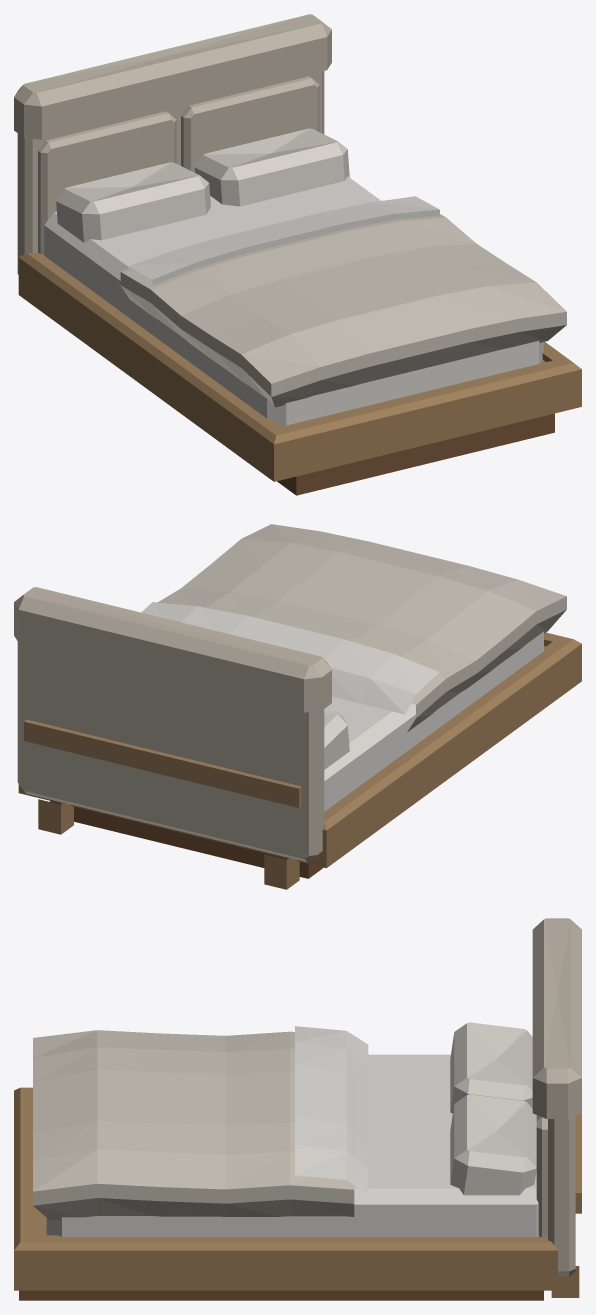
Rendered from bed-6e10e8.glb.
3 renders of one model, top to bottom at view 1: azimuth 30°, elevation 25°; view 2: azimuth 150°, elevation 25°; view 3: azimuth 270°, elevation 25°, orthographic. The views are drawn at different scales.
Visible parts, largest first — view 1: bed, duvet, pillows; view 2: bed, duvet, pillows; view 3: bed, duvet, pillows.
Boxes of the visible parts, x1=… form: bed: x1=14, y1=14, x2=581, y2=495; duvet: x1=120, y1=196, x2=566, y2=407; pillows: x1=56, y1=128, x2=349, y2=242; bed: x1=14, y1=587, x2=581, y2=889; duvet: x1=141, y1=524, x2=566, y2=732; pillows: x1=324, y1=709, x2=349, y2=769; bed: x1=14, y1=918, x2=581, y2=1300; duvet: x1=33, y1=1026, x2=368, y2=1219; pillows: x1=450, y1=1022, x2=536, y2=1195.
Size of the model in its own units: 1.5 by 1.05 by 2.25.
